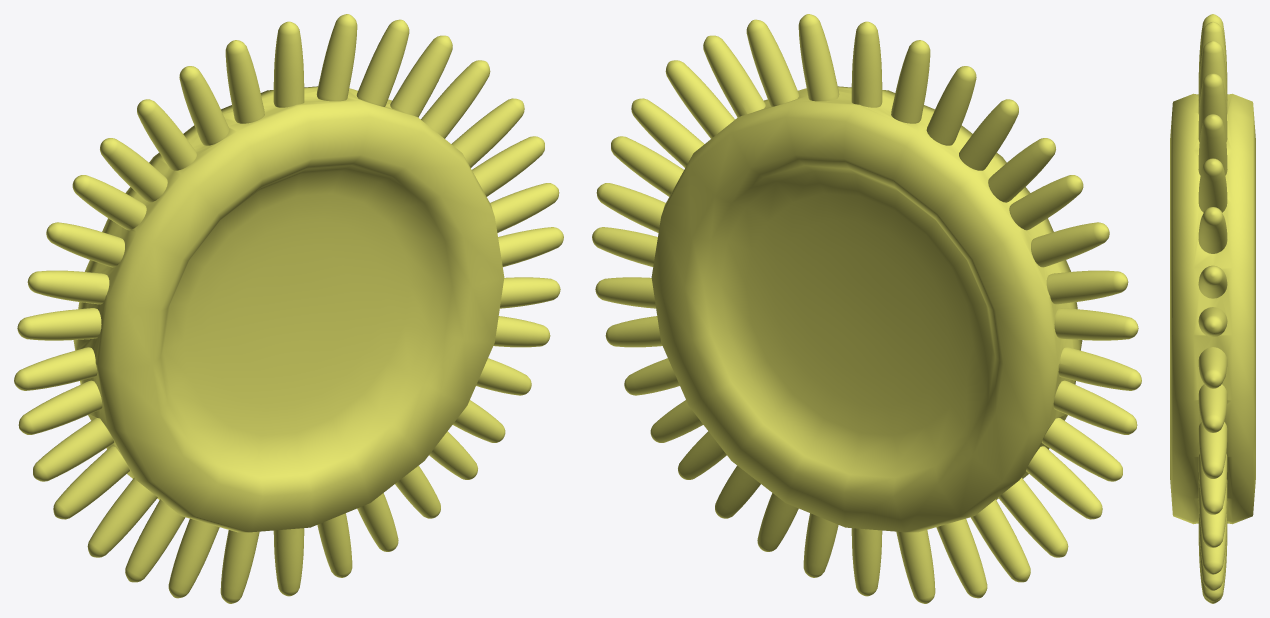
File: YELLOWBACTERIA3.fbx
The picture shows the model from 3 angles, left to right: view 1: azimuth 30°, elevation 25°; view 2: azimuth 150°, elevation 25°; view 3: azimuth 270°, elevation 25°; orthographic projection. The views are drawn at different scales.
Parts seen in each view (by area): view 1: pSphere170; view 2: pSphere170; view 3: pSphere170.
Boxes of the visible parts, x1,y1,x2,y2 form: pSphere170: (14, 14, 563, 603); pSphere170: (592, 14, 1141, 603); pSphere170: (1170, 14, 1255, 603).
Bounding box in the file's own units: 8.56 × 8.56 × 1.24.
